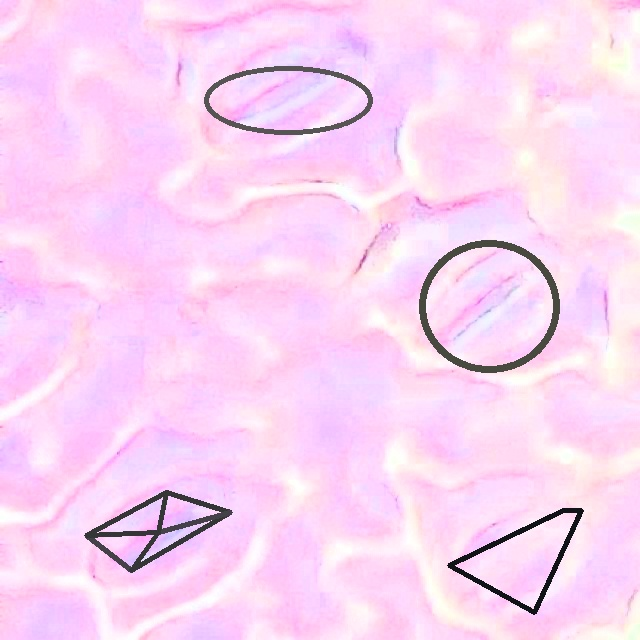close: (447, 508, 583, 614)
open: (418, 240, 560, 372), (85, 491, 231, 572), (203, 65, 372, 134)
